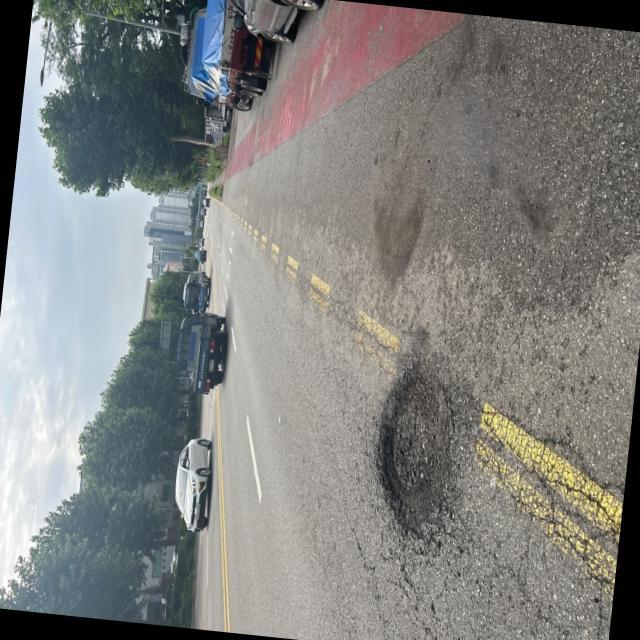pothole: (340, 350, 472, 551)
